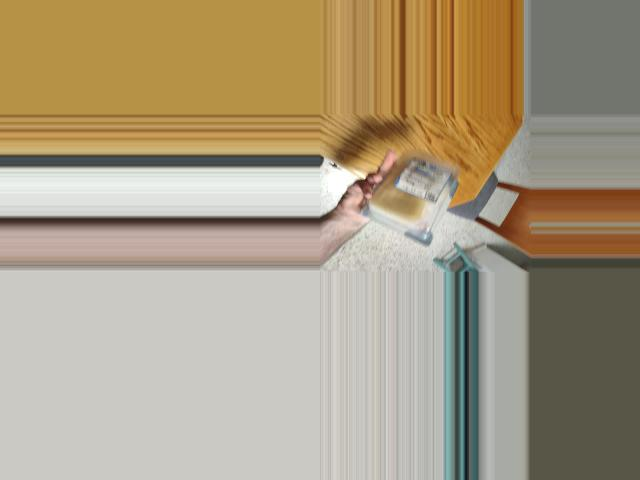cheese: (363, 160, 466, 239)
